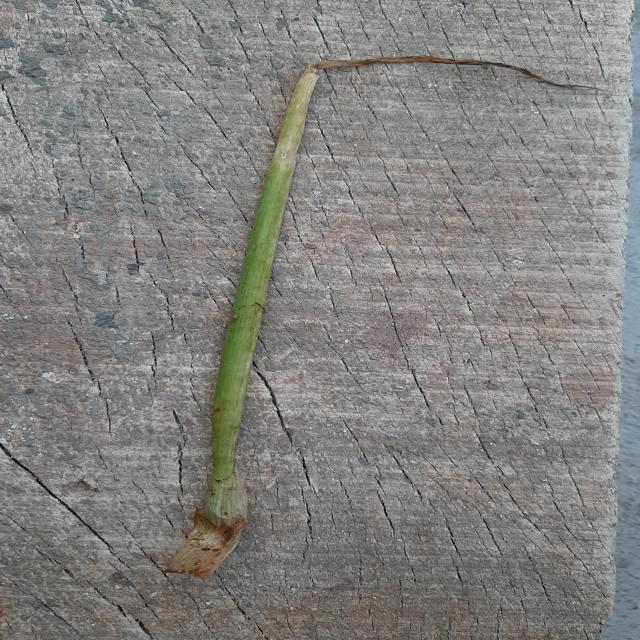onion: (163, 56, 596, 579)
